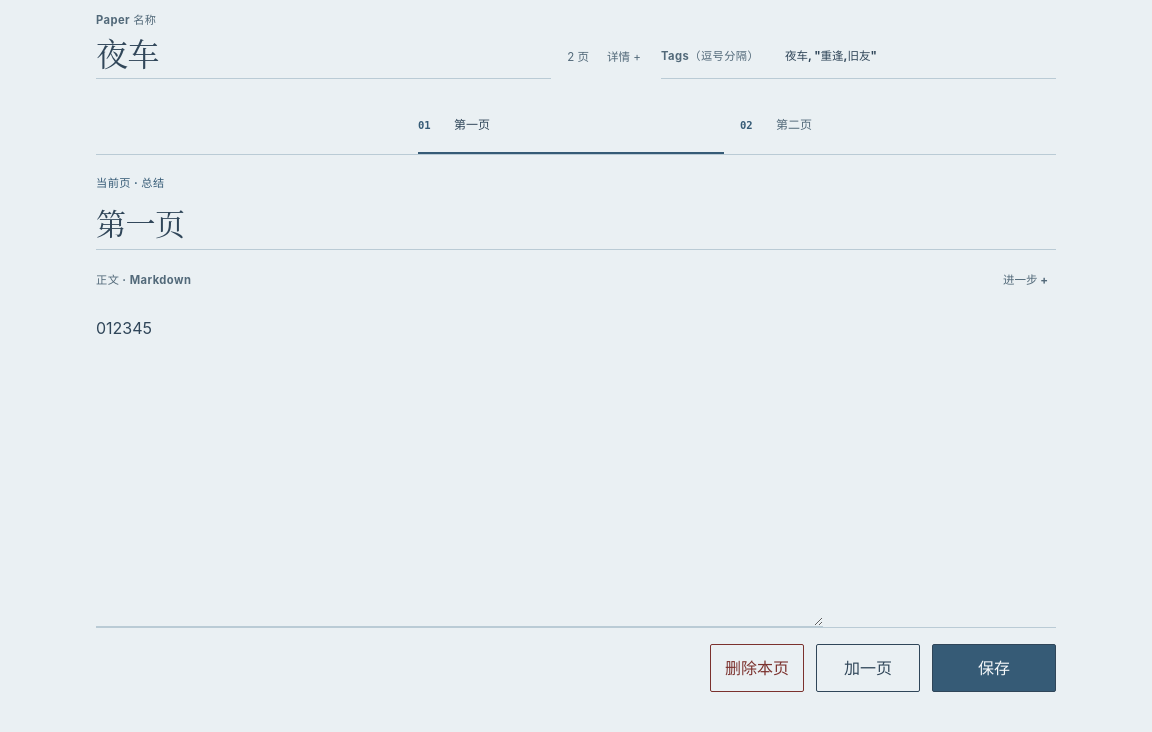
Test case: PaperV4Workbench › splits at selectionStart and moves selected plus following text without loss
Step 1. Click the button "加一页" → click(868, 668), box [816,644,920,692]
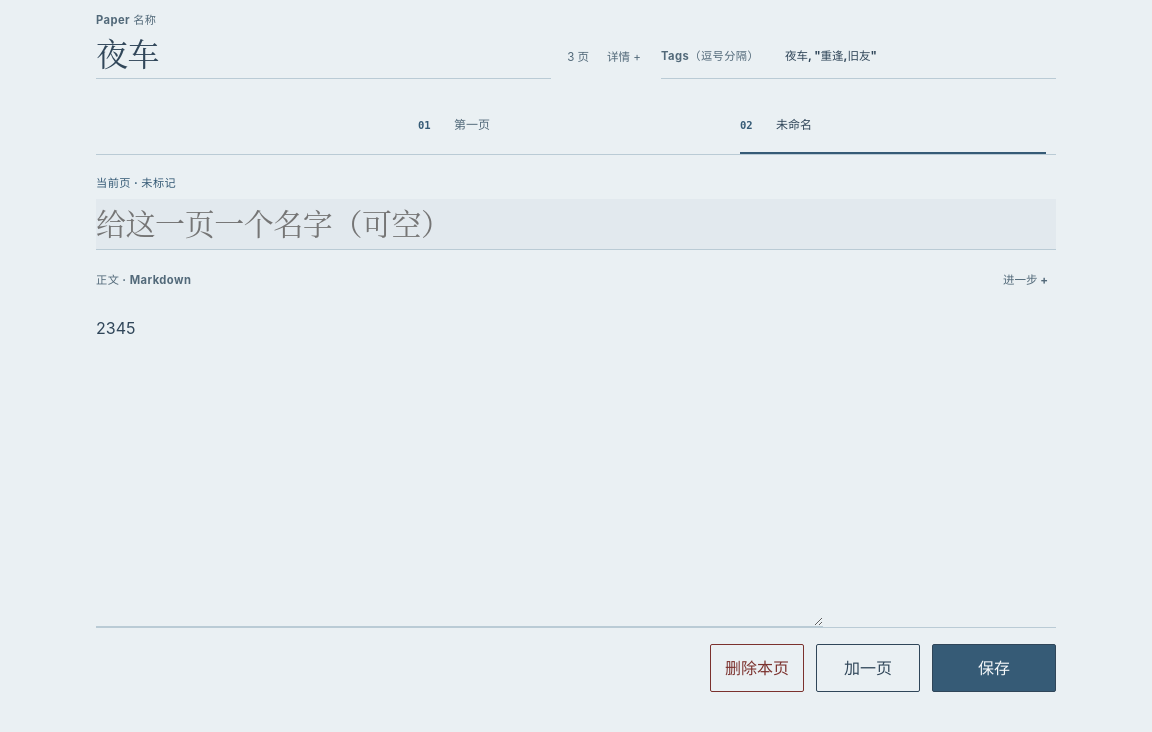
Result: the text box holds "2345" at [96,302,823,628]
Step 2. Click the button "01 第一页" → click(472, 125), box [418,95,724,154]
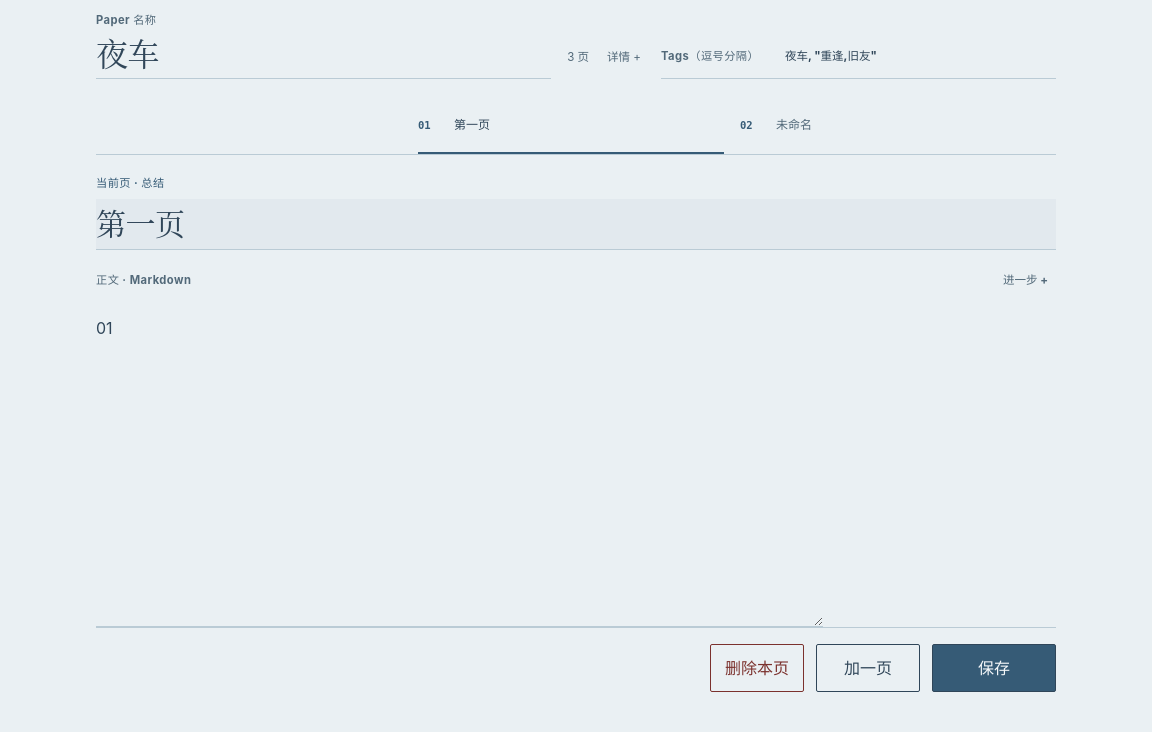
Result: the text box holds "01" at [96,302,823,628]
